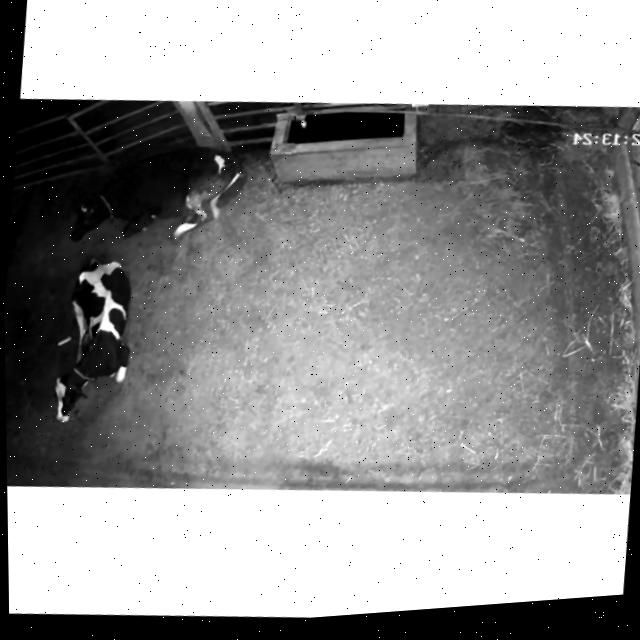lay: (58, 125, 257, 262), (27, 236, 158, 439)
